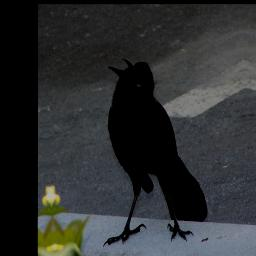Crow: (88, 47, 209, 252)
